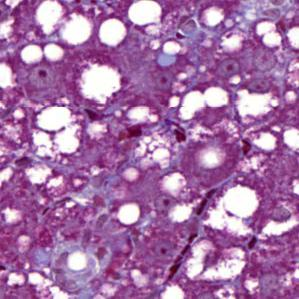steatosis: (95, 16, 132, 48)
